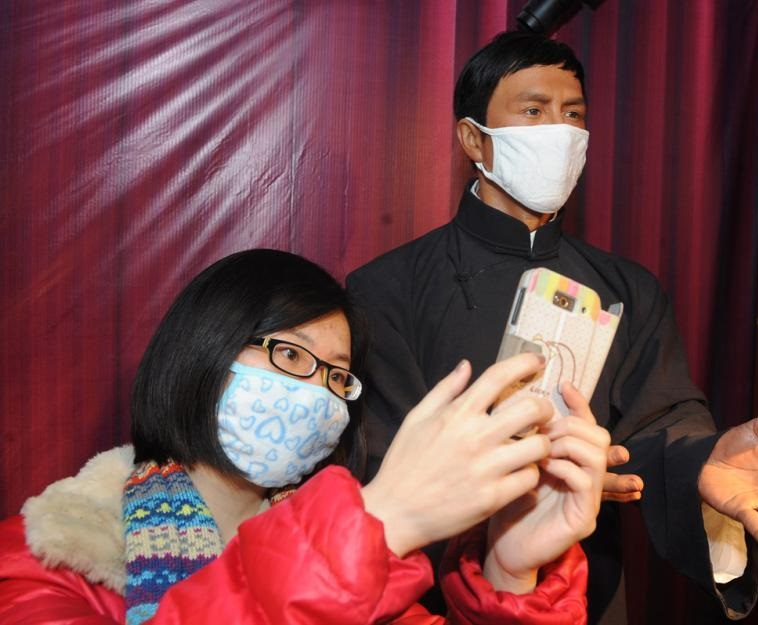face_mask: (218, 316, 349, 489), (492, 89, 589, 213)
